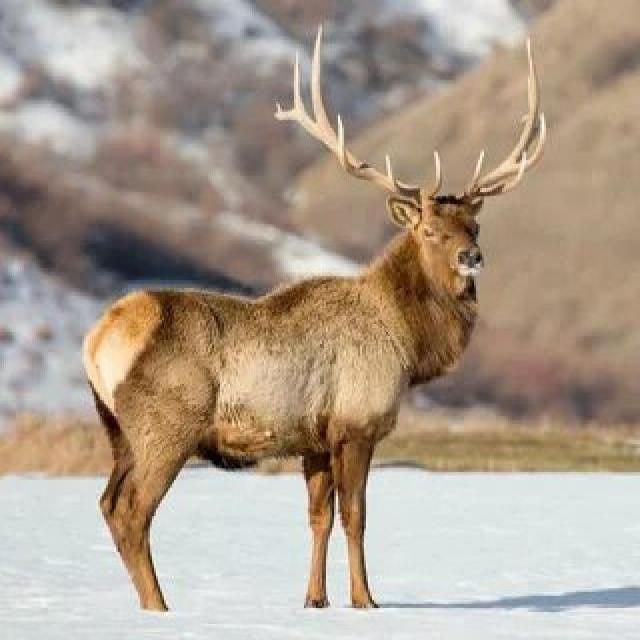deer: (12, 23, 574, 580)
